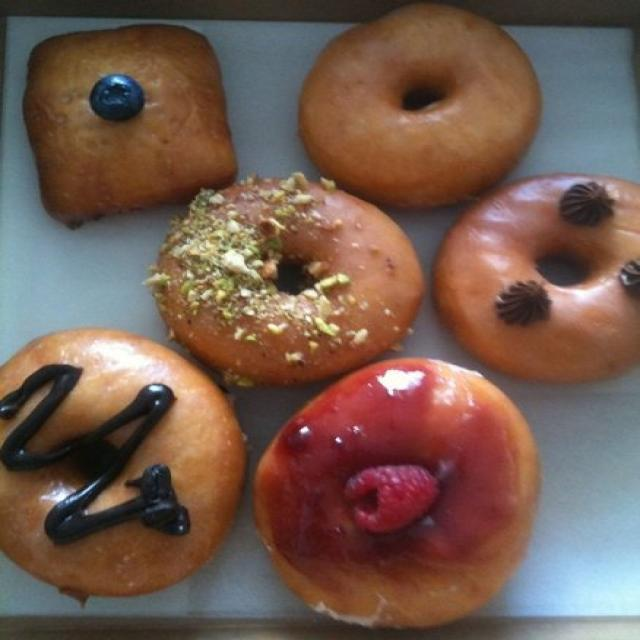Donuts: (9, 19, 640, 640)
